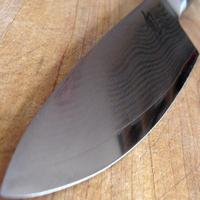knife: (1, 2, 198, 198)
